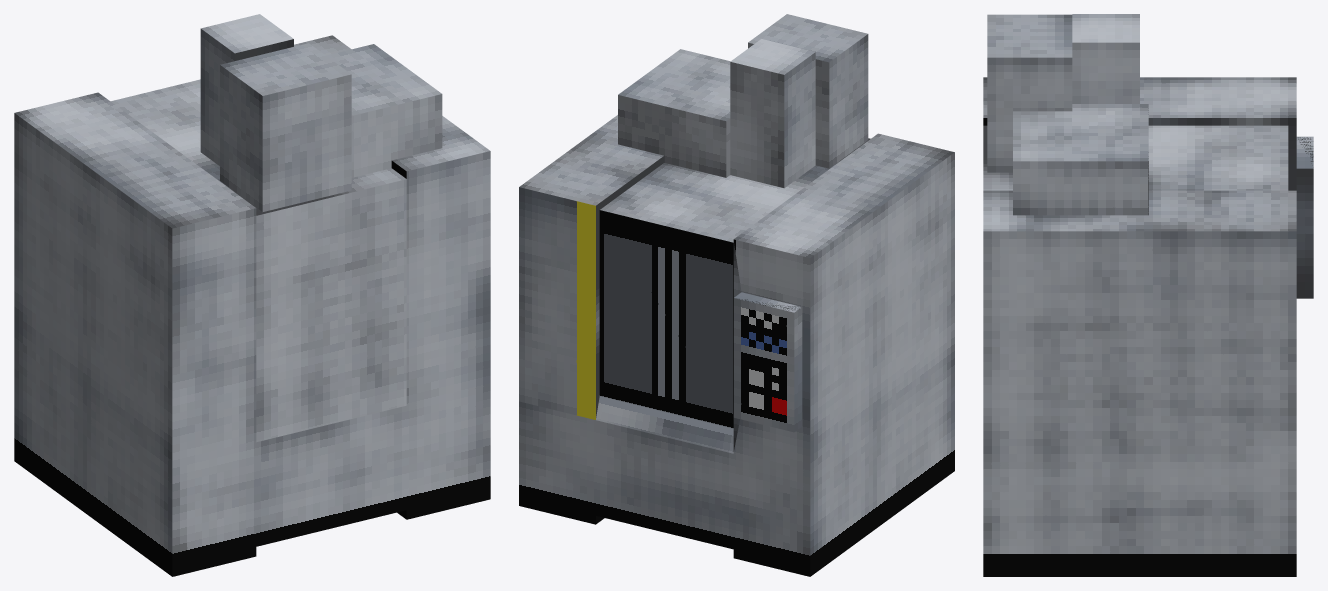
Rendered from medium_printer.gltf.
3 renders of one model, left to right at view 1: azimuth 30°, elevation 25°; view 2: azimuth 150°, elevation 25°; view 3: azimuth 270°, elevation 25°, orthographic. The views are drawn at different scales.
Visible parts, largest first — view 1: cube; view 2: cube; view 3: cube.
Part boxes in pixels (box(x1,y1,x2,y2)): cube: box(14, 14, 490, 576); cube: box(519, 14, 954, 576); cube: box(983, 14, 1313, 576).
Size of the model in its own units: 1.34 by 1.88 by 1.22.
1 material, 1 textured.
